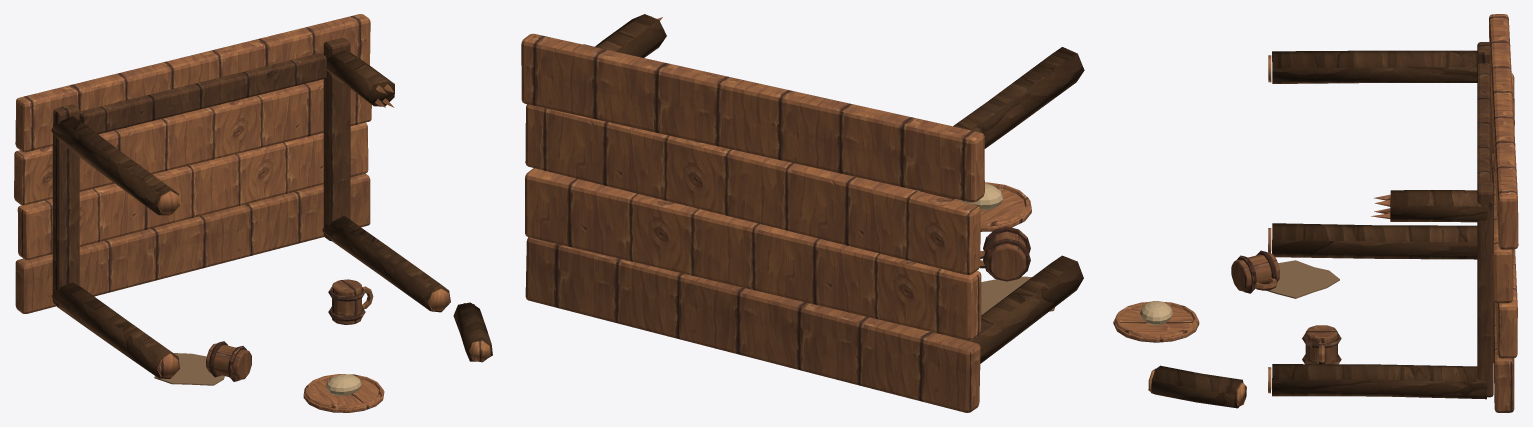
Rendered from table_overturned.glb.
The picture shows the model from 3 angles, left to right: view 1: azimuth 30°, elevation 25°; view 2: azimuth 150°, elevation 25°; view 3: azimuth 270°, elevation 25°; orthographic projection. The views are drawn at different scales.
Parts seen in each view (by area): view 1: model; view 2: model; view 3: model.
Boxes of the visible parts, x1,y1,x2,y2 form: model: [14, 14, 492, 412]; model: [521, 14, 1084, 412]; model: [1113, 14, 1518, 412].
Size of the model in its own units: 1.3 by 0.7637 by 1.22.
Materials: 10 (8 with a texture image).
